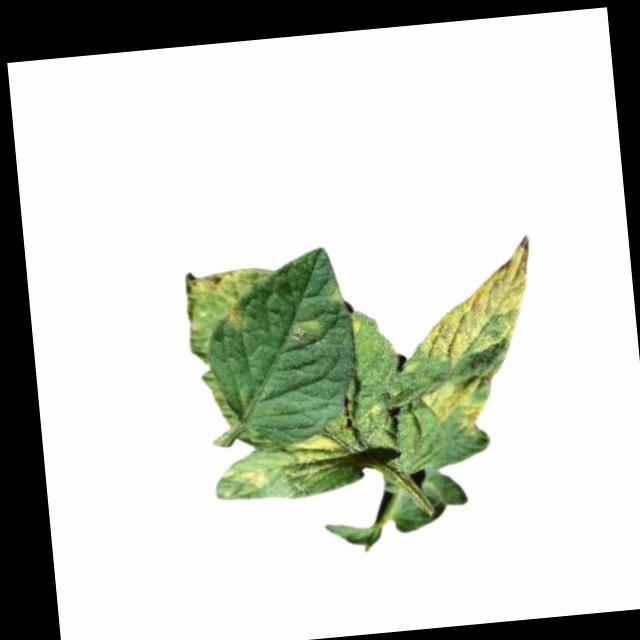Leaf_Mold: (409, 235, 542, 371), (418, 376, 493, 441), (182, 262, 265, 309), (290, 429, 347, 479), (213, 461, 272, 501), (226, 304, 245, 328)
